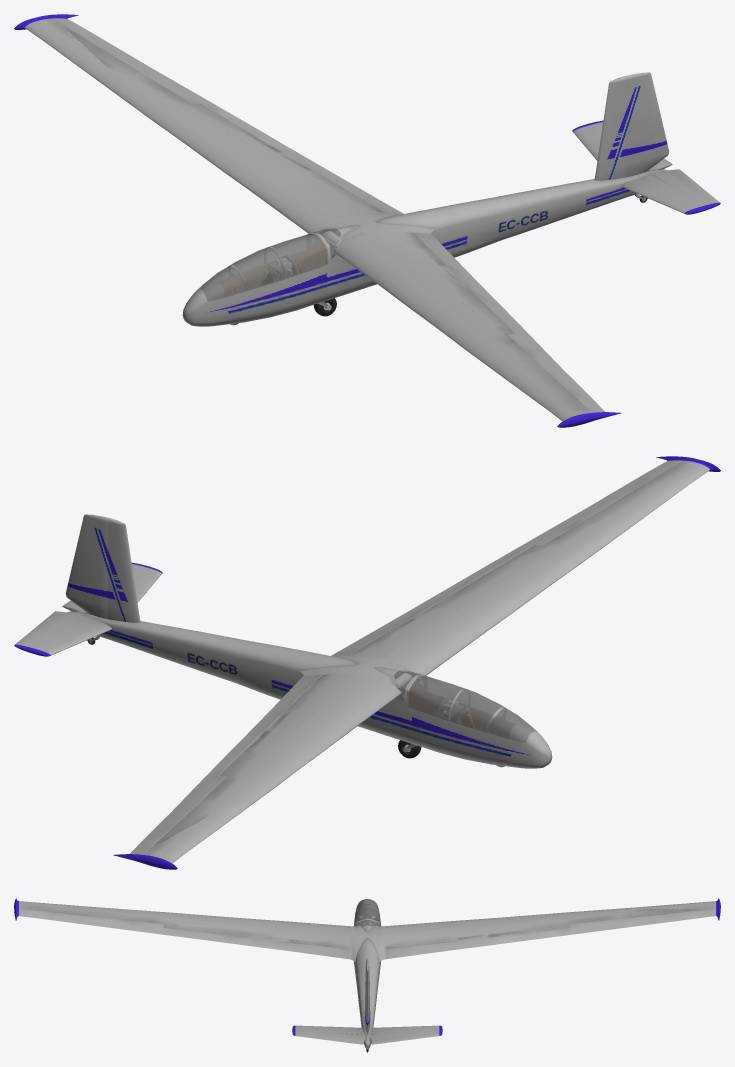
The picture shows the model from 3 angles, top to bottom: view 1: azimuth 30°, elevation 25°; view 2: azimuth 150°, elevation 25°; view 3: azimuth 270°, elevation 25°; orthographic projection. The views are drawn at different scales.
Parts seen in each view (by area): view 1: wings, body, rudder, canopy, canopy.int, vstab, hstab, flapR, aileronR, flapL, aileronL, interior (+3 smaller); view 2: wings, body, rudder, canopy, canopy.int, vstab, hstab, flapL, aileronL, flapR, aileronR, interior (+3 smaller); view 3: wings, body, flapL, flapR, aileronL, aileronR, hstab, elevatorL, elevatorR, canopy, canopy.int, rudder.
Part boxes in pixels (x1=…): wings: x1=14, y1=14, x2=621, y2=427; body: x1=182, y1=169, x2=667, y2=326; rudder: x1=625, y1=72, x2=669, y2=176; canopy: x1=231, y1=234, x2=326, y2=287; canopy.int: x1=232, y1=234, x2=326, y2=287; vstab: x1=594, y1=76, x2=627, y2=180; hstab: x1=572, y1=123, x2=707, y2=214; flapR: x1=202, y1=103, x2=403, y2=213; aileronR: x1=54, y1=19, x2=213, y2=104; flapL: x1=413, y1=233, x2=528, y2=334; aileronL: x1=508, y1=334, x2=604, y2=412; interior: x1=220, y1=170, x2=656, y2=295; wings: x1=113, y1=456, x2=720, y2=869; body: x1=67, y1=611, x2=552, y2=768; rudder: x1=65, y1=514, x2=109, y2=618; canopy: x1=408, y1=676, x2=503, y2=729; canopy.int: x1=408, y1=676, x2=502, y2=729; vstab: x1=107, y1=518, x2=140, y2=622; hstab: x1=27, y1=565, x2=162, y2=656; flapL: x1=331, y1=545, x2=532, y2=655; aileronL: x1=521, y1=461, x2=680, y2=546; flapR: x1=206, y1=675, x2=321, y2=776; aileronR: x1=130, y1=776, x2=226, y2=854; interior: x1=78, y1=612, x2=514, y2=737; wings: x1=14, y1=898, x2=720, y2=961; body: x1=354, y1=919, x2=380, y2=1048; flapL: x1=164, y1=928, x2=349, y2=959; flapR: x1=385, y1=928, x2=570, y2=959; aileronL: x1=19, y1=909, x2=163, y2=934; aileronR: x1=571, y1=909, x2=715, y2=934; hstab: x1=292, y1=1025, x2=442, y2=1034; elevatorL: x1=292, y1=1030, x2=365, y2=1044; elevatorR: x1=369, y1=1030, x2=442, y2=1044; canopy: x1=354, y1=900, x2=380, y2=925; canopy.int: x1=354, y1=900, x2=380, y2=925; rudder: x1=364, y1=962, x2=370, y2=1033.
Bounding box in the file's own units: 8.4 × 2.7 × 16.14.
Materials: 4 (2 with a texture image).
